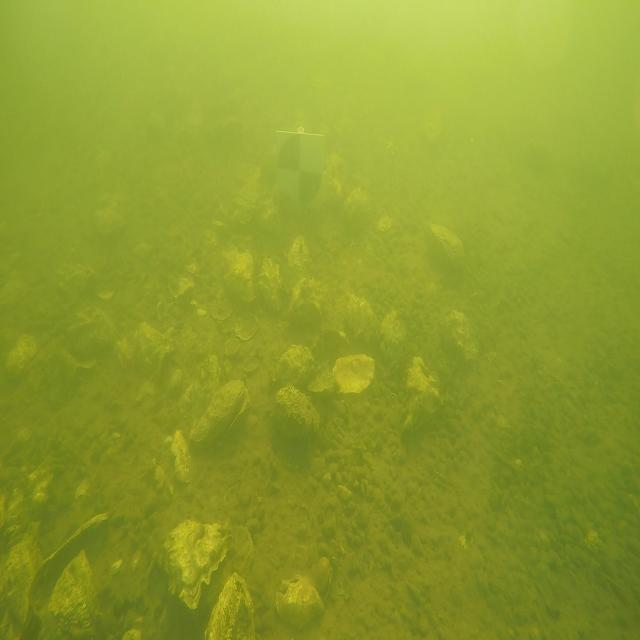Oyster-Closed: (142, 500, 240, 612), (0, 516, 50, 640), (56, 300, 124, 368), (111, 316, 180, 383), (265, 568, 329, 635), (263, 379, 324, 445), (332, 289, 388, 354), (268, 338, 326, 400), (204, 573, 255, 640), (403, 355, 443, 435), (432, 306, 481, 370), (0, 330, 43, 378), (428, 222, 464, 276), (224, 249, 254, 302), (284, 234, 313, 288), (258, 258, 282, 311)
Oyster-Open: (183, 372, 258, 455), (27, 511, 114, 581), (49, 555, 95, 634), (332, 353, 377, 394)
